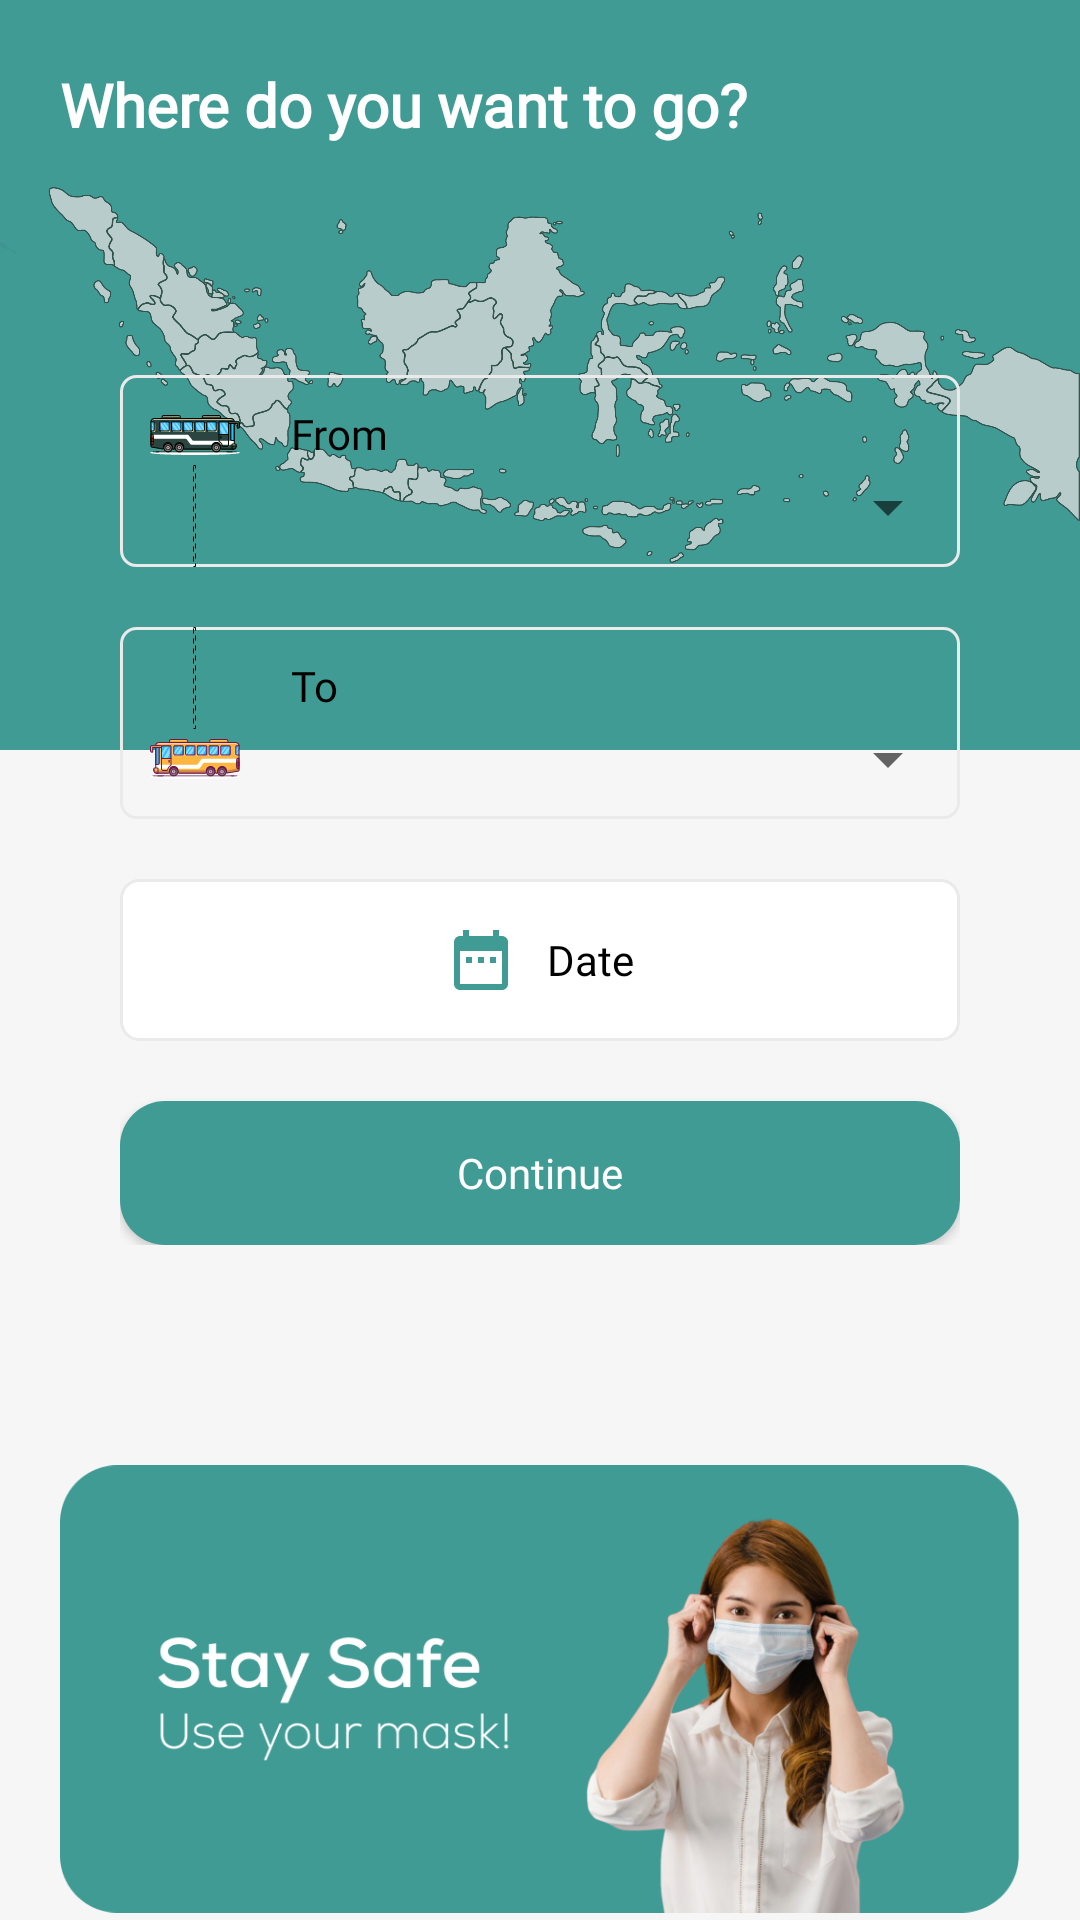

Icon click points for this 1080 x 1920 phone screenshot, format (x,y):
bus: (195,430), (195,759)
